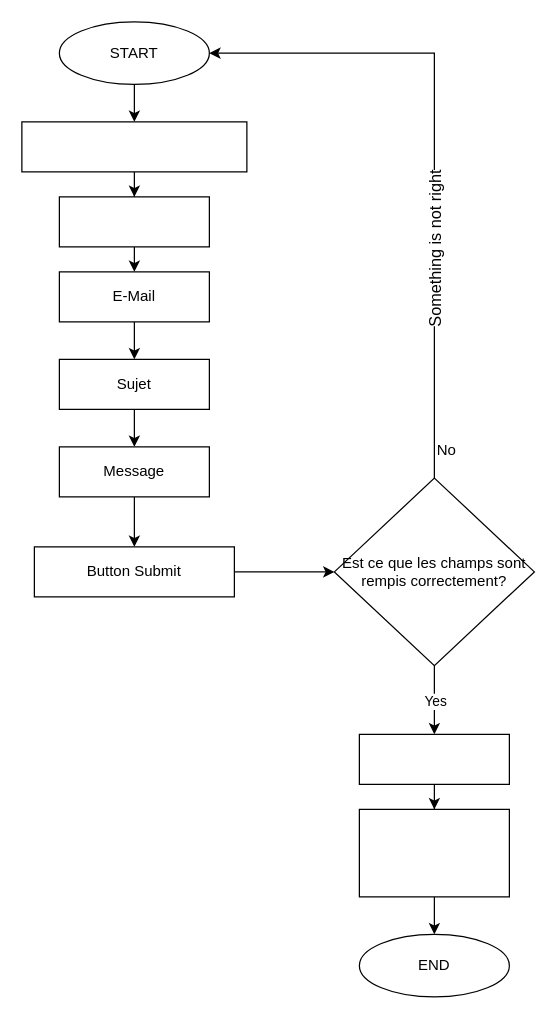
Image size: 556x1019. Some labels were removed from this diagram. The shapes that lost their labels are listed below. From the top down, each one's centre as x and y in pixels, then its label:
At (134,146): "Procces Contact".
At (133,221): "Name".
At (433,758): "Save to csv".
At (433,852): "Send this message to the e-mail address selected for contact".
